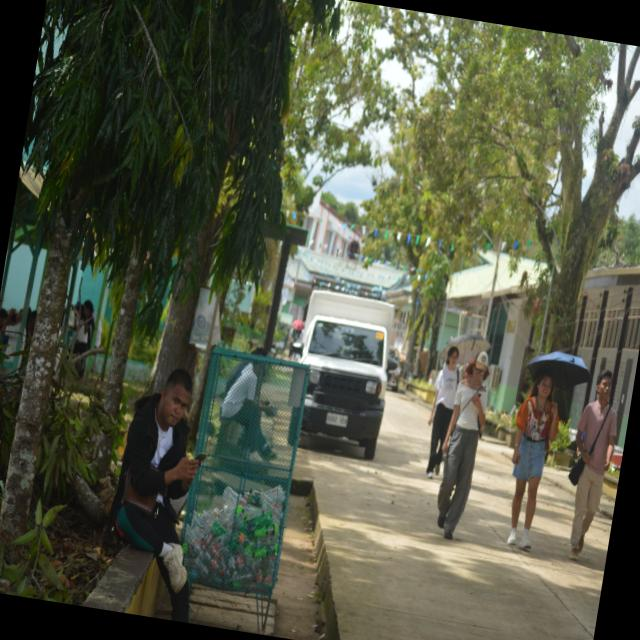person: (105, 369, 198, 622), (437, 352, 488, 539), (506, 372, 558, 548), (569, 370, 616, 559), (220, 362, 274, 460), (425, 347, 458, 478)
